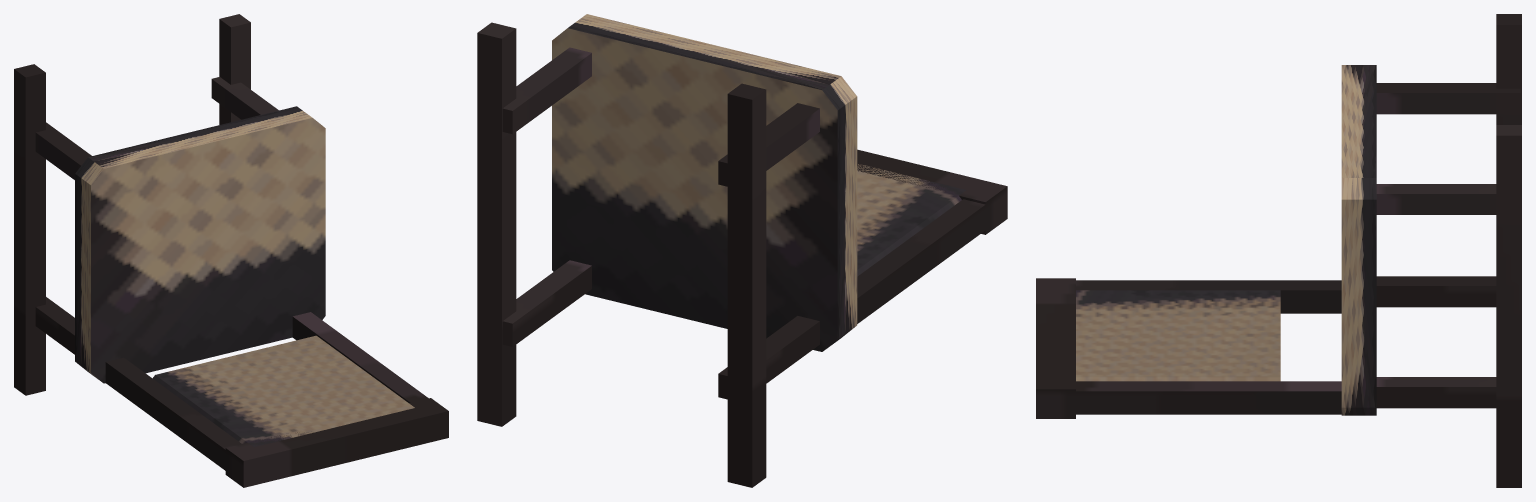
Rendered from pz_chair_seating_indoor_03_rocking_2.obj.
The picture shows the model from 3 angles, left to right: view 1: azimuth 30°, elevation 25°; view 2: azimuth 150°, elevation 25°; view 3: azimuth 270°, elevation 25°; orthographic projection. The views are drawn at different scales.
Bounding box in the file's own units: 0.64 × 0.83 × 1.04.
Materials: 1 (1 with a texture image).
